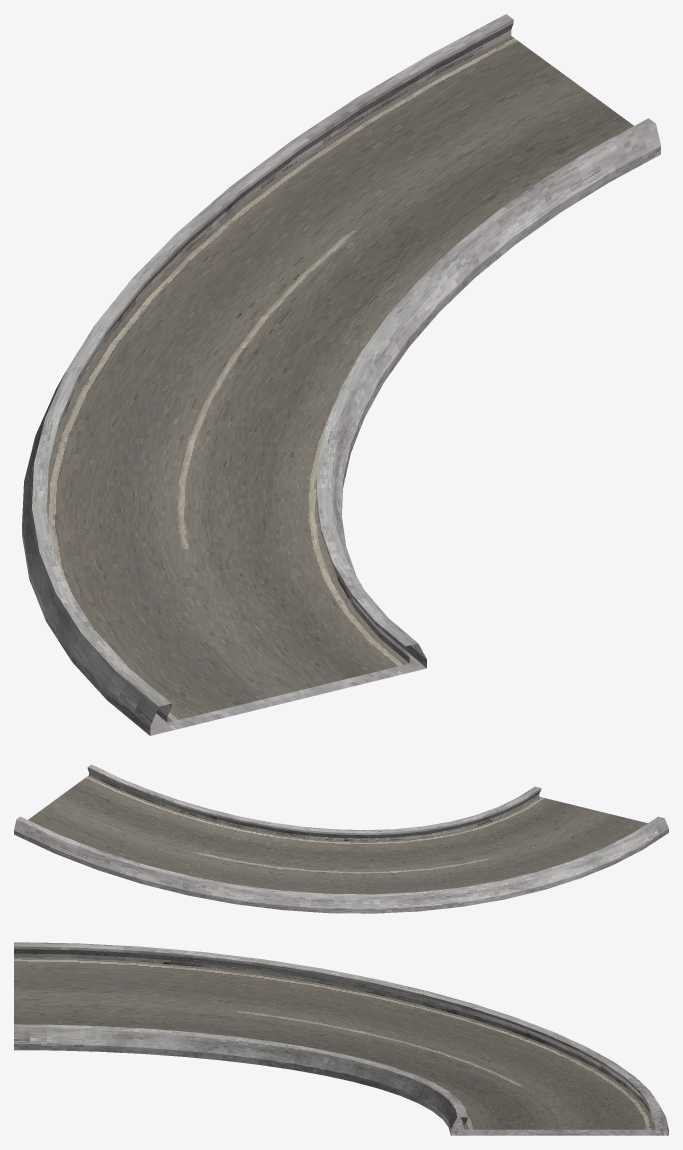
Rendered from road-Turn-Flat-BiSlopeUp-Up2-Right-Size3.glb.
The picture shows the model from 3 angles, top to bottom: view 1: azimuth 30°, elevation 25°; view 2: azimuth 150°, elevation 25°; view 3: azimuth 270°, elevation 25°; orthographic projection. The views are drawn at different scales.
Parts seen in each view (by area): view 1: road-Turn-Flat-BiSlopeUp-Up2-Right-Size3; view 2: road-Turn-Flat-BiSlopeUp-Up2-Right-Size3; view 3: road-Turn-Flat-BiSlopeUp-Up2-Right-Size3.
Part boxes in pixels (left/top/right/bottom): road-Turn-Flat-BiSlopeUp-Up2-Right-Size3: left=22, top=14, right=660, bottom=735; road-Turn-Flat-BiSlopeUp-Up2-Right-Size3: left=14, top=764, right=668, bottom=913; road-Turn-Flat-BiSlopeUp-Up2-Right-Size3: left=14, top=942, right=668, bottom=1135.
Size of the model in its own units: 3 by 0.5938 by 3.
2 materials, 2 textured.
